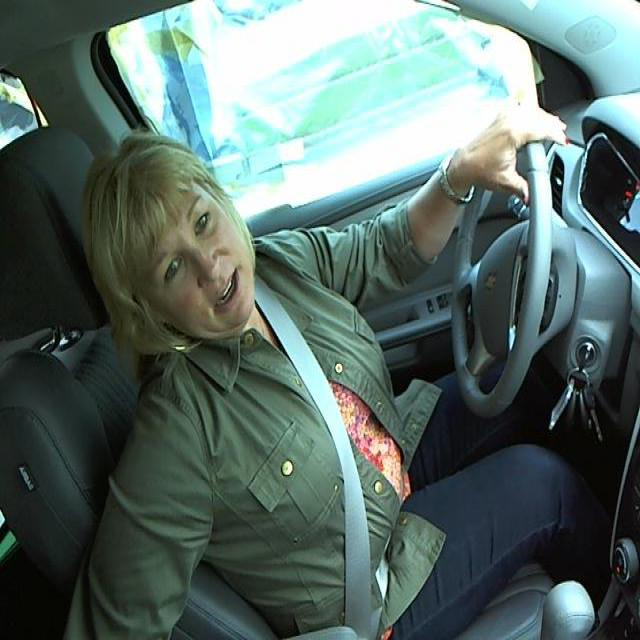seatbelt: (260, 314, 411, 626)
